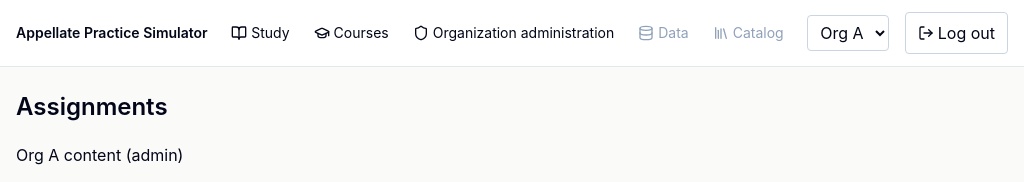
Test case: OrganizationContextProvider › clears pending expiry work on organization switch and signout
This screenshot has width=1024, height=182.
Expected: the text "Org A content (admin)" is shown, [16,145,183,165]
Step 1. Select "Org B" in the dropdown named "Organization" → (848, 33), box [807,15,889,51]
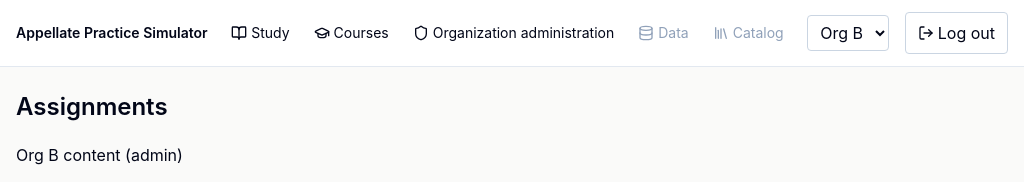
Result: the text "Org B content (admin)" is shown at [16,145,183,165]
